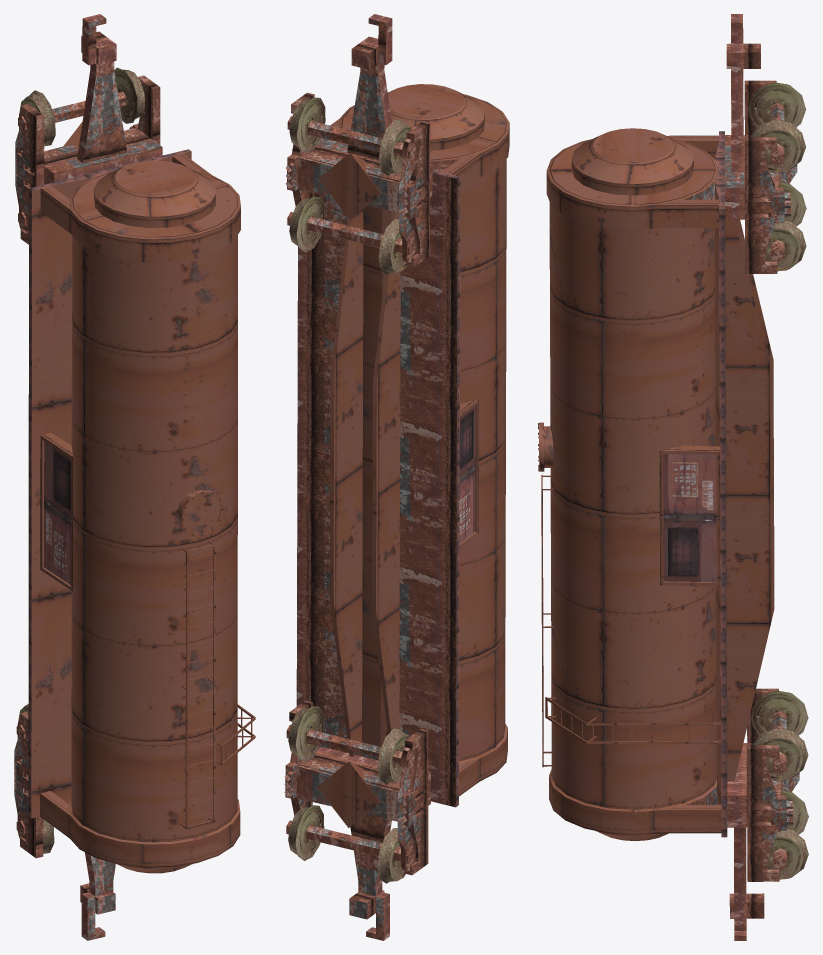
Rendered from train_liquid.obj.
3 views of the same model, side by side, from view 1: azimuth 30°, elevation 25°; view 2: azimuth 150°, elevation 25°; view 3: azimuth 270°, elevation 25° (orthographic).
Parts seen in each view (by area): view 1: MSH_Axis_6; view 2: MSH_Axis_6; view 3: MSH_Axis_6.
Part boxes in pixels (x1,y1,x2,y2): MSH_Axis_6: [14, 14, 255, 940]; MSH_Axis_6: [284, 14, 509, 940]; MSH_Axis_6: [538, 14, 808, 940].
Bounding box in the file's own units: 93.77 × 514 × 138.
5 materials, 5 textured.
